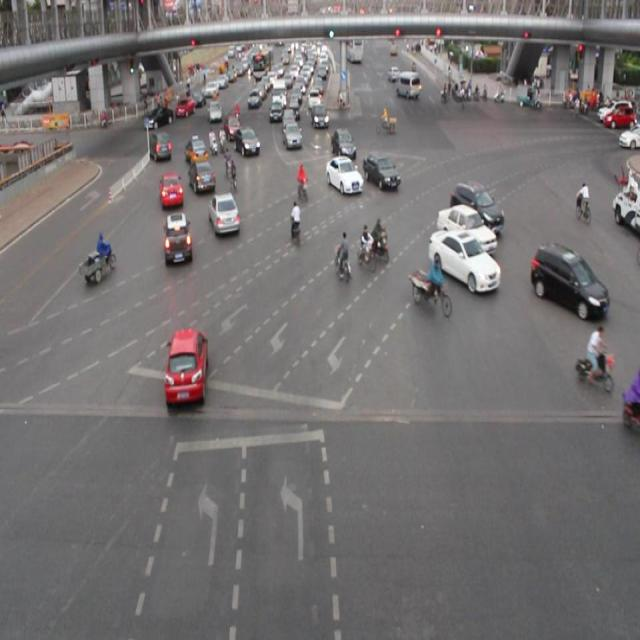car: (529, 239, 604, 319), (429, 228, 498, 295), (164, 328, 208, 406), (436, 202, 496, 255), (450, 178, 503, 231), (162, 213, 193, 266), (324, 156, 363, 195), (361, 151, 399, 190), (207, 190, 240, 234), (158, 170, 184, 210), (329, 127, 356, 162), (234, 125, 260, 159), (190, 162, 215, 194), (149, 131, 172, 164), (186, 136, 210, 165)
